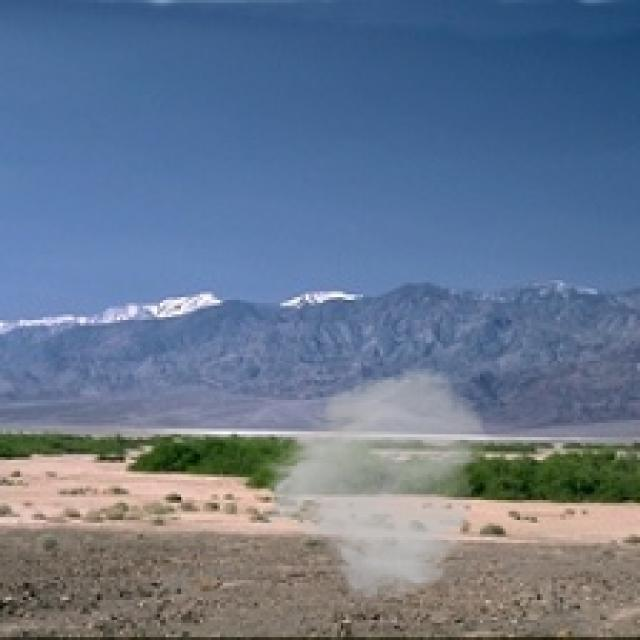Smoke: (257, 366, 489, 603)
